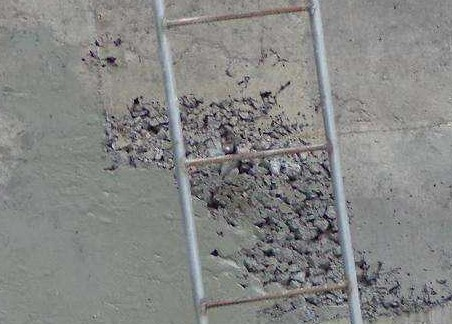Spalling: (102, 80, 452, 324), (78, 31, 124, 71)
